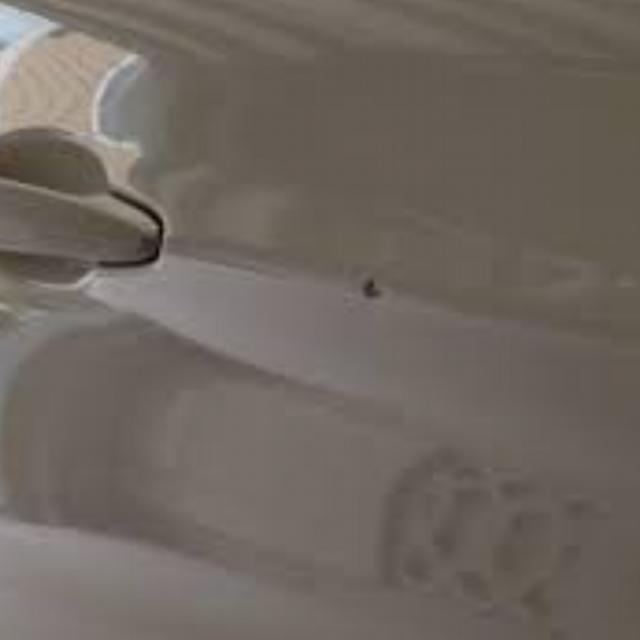dents: (341, 263, 409, 327)
